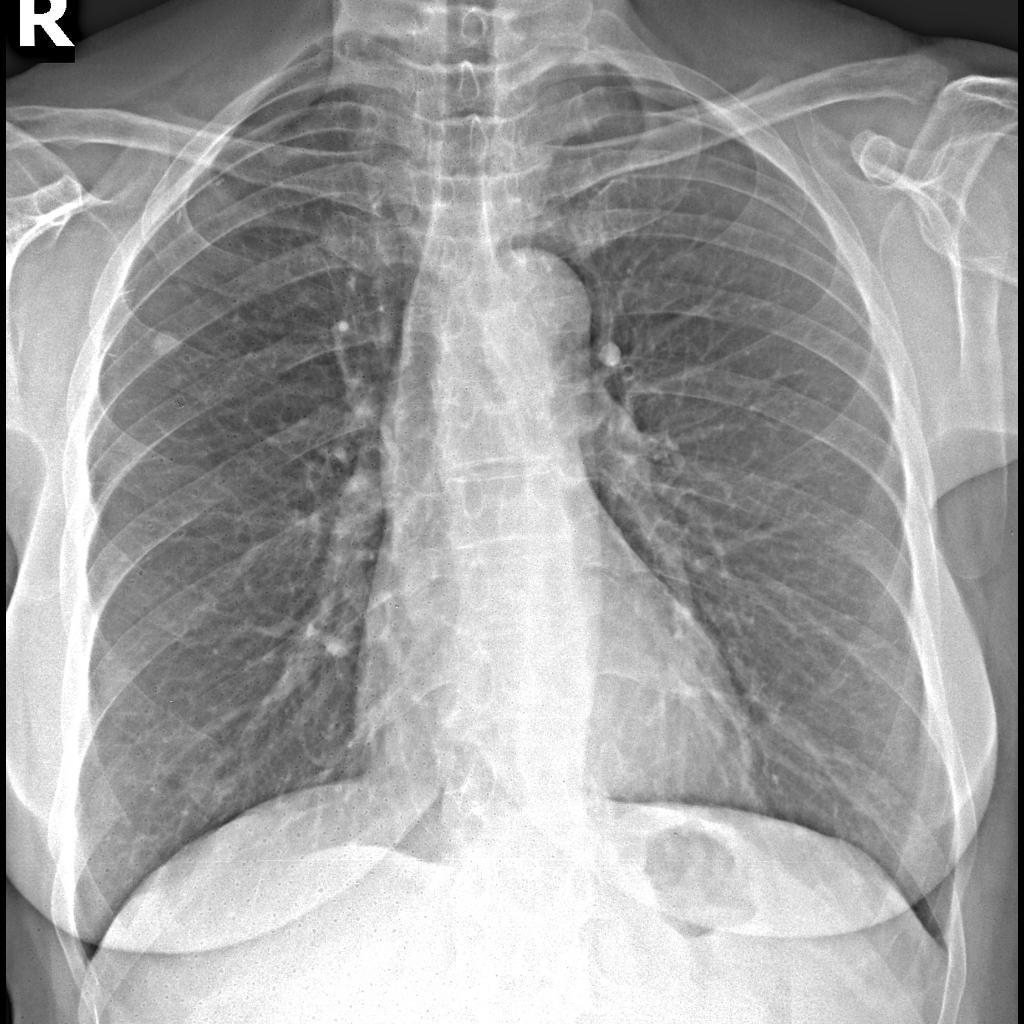Nodule: (151, 327, 186, 369)
